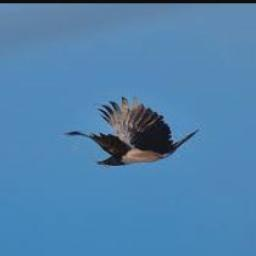Crow: (63, 98, 199, 167)
